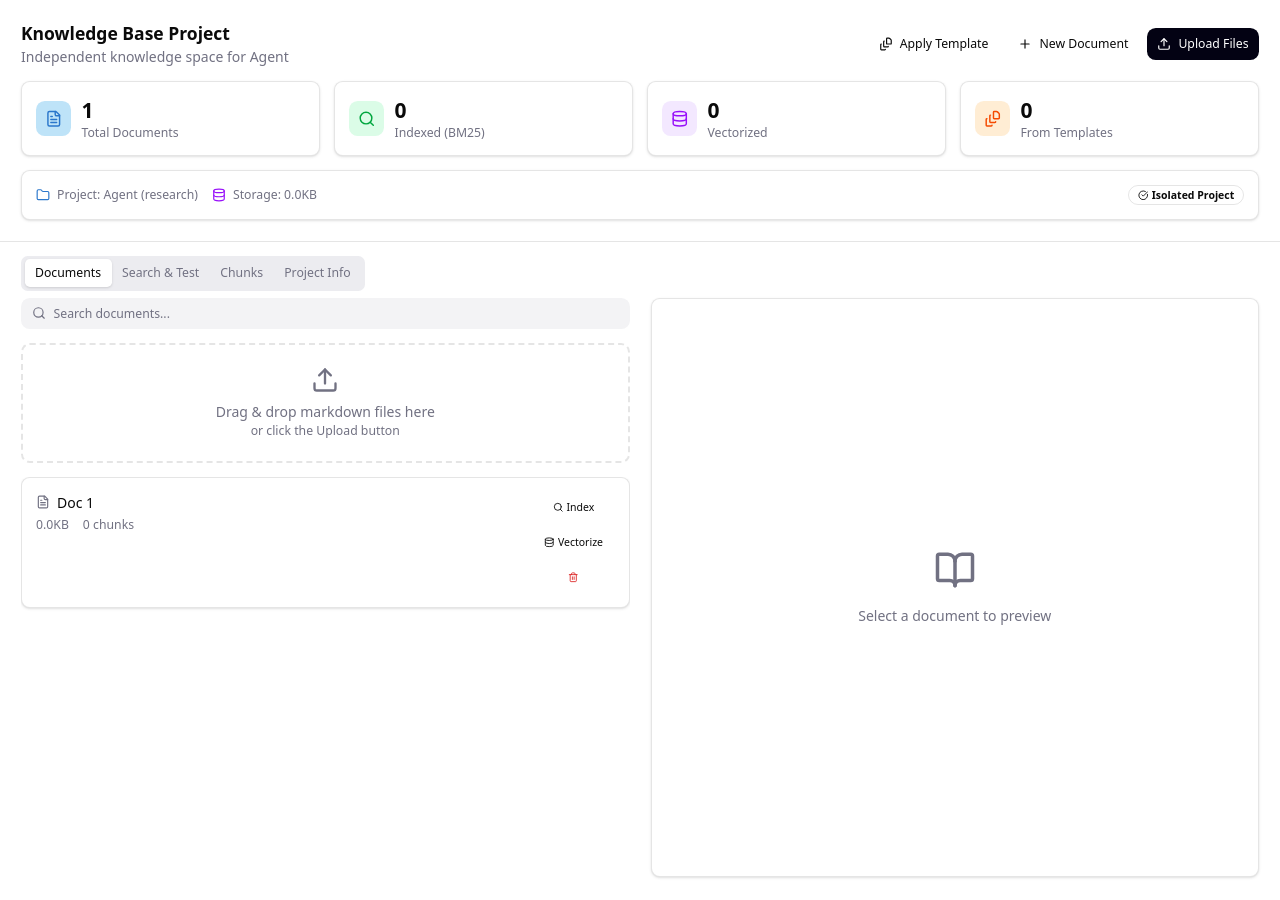
Test case: KnowledgeBaseManager readDoc on selection › fetches full content when selecting a summary-only document
Step 1. Click the text "Doc 1" → (76, 502), box [57,492,94,512]
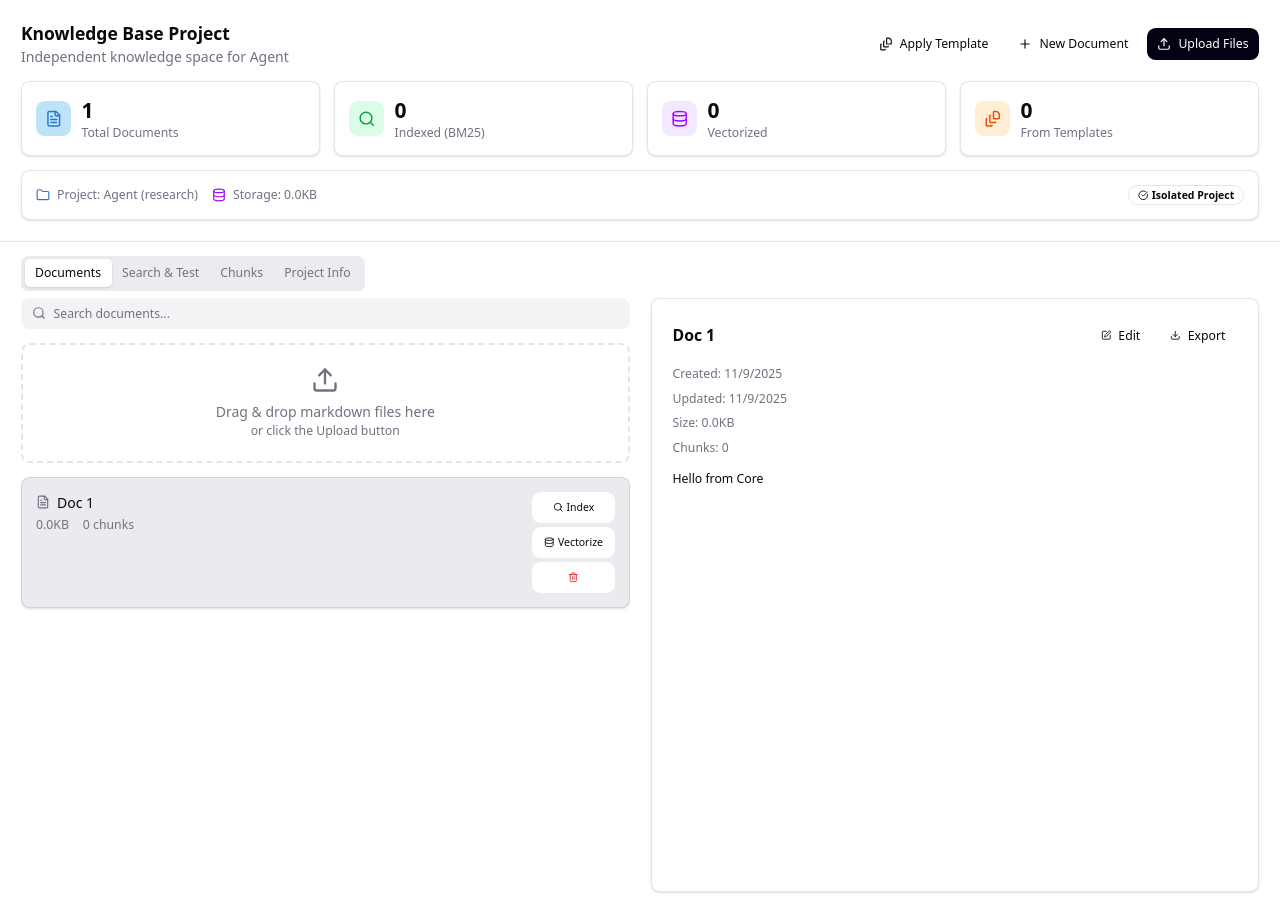
Expected: the text "Hello from Core" is shown, [672,470,763,487]
